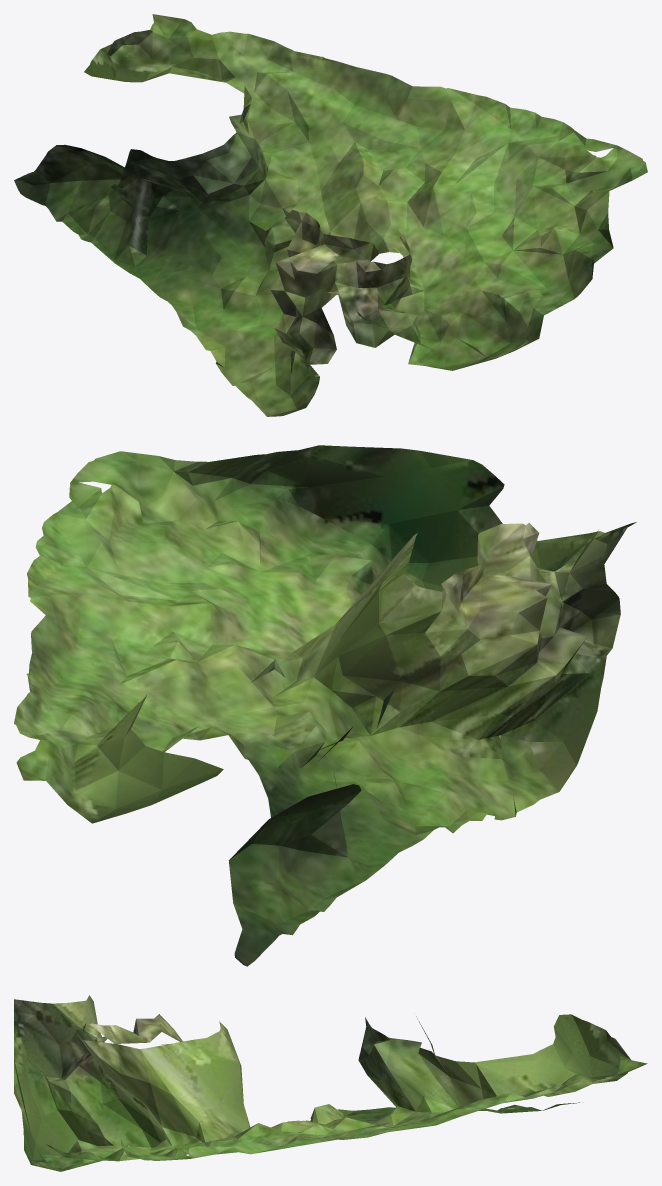
The picture shows the model from 3 angles, top to bottom: view 1: azimuth 30°, elevation 25°; view 2: azimuth 150°, elevation 25°; view 3: azimuth 270°, elevation 25°; orthographic projection. The views are drawn at different scales.
Bounding box in the file's own units: 15.97 × 6.86 × 25.77.
2 materials, 2 textured.
